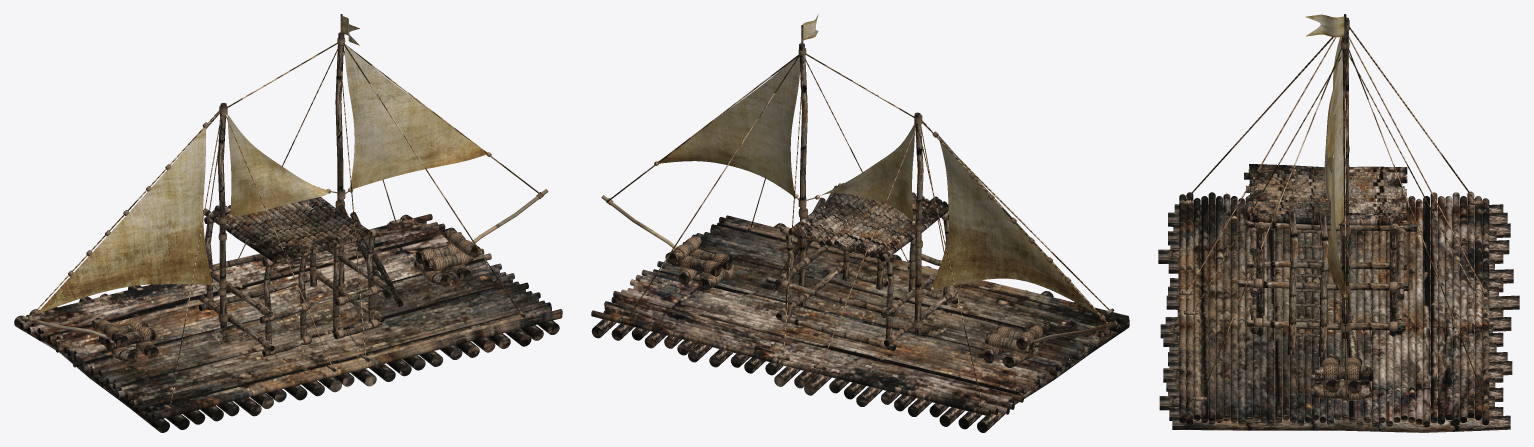
The model's file is raft.glb.
The picture shows the model from 3 angles, left to right: view 1: azimuth 30°, elevation 25°; view 2: azimuth 150°, elevation 25°; view 3: azimuth 270°, elevation 25°; orthographic projection. The views are drawn at different scales.
Parts seen in each view (by area): view 1: Object_3, Object_10, Object_2, Object_4, Object_6, Object_5, Object_7, Object_9, Object_8; view 2: Object_3, Object_2, Object_10, Object_4, Object_5, Object_6, Object_7, Object_9, Object_8; view 3: Object_3, Object_2, Object_4, Object_10, Object_5, Object_6, Object_8, Object_7.
Boxes of the visible parts, x1,y1,x2,y2 form: Object_3: (39,14,562,420); Object_10: (38,16,487,313); Object_2: (14,204,525,432); Object_4: (203,32,403,343); Object_6: (26,38,543,410); Object_5: (30,42,539,407); Object_7: (34,270,322,357); Object_9: (21,189,548,346); Object_8: (205,114,439,366); Object_3: (591,25,1129,406); Object_2: (591,197,1129,432); Object_10: (657,14,1100,315); Object_4: (766,43,949,343); Object_5: (606,53,1109,405); Object_6: (606,48,1112,352); Object_7: (779,273,1104,405); Object_9: (601,195,1117,352); Object_8: (820,127,944,365); Object_3: (1159,14,1512,432); Object_2: (1158,191,1519,427); Object_4: (1237,17,1416,354); Object_10: (1305,14,1347,294); Object_5: (1184,27,1485,401); Object_6: (1182,20,1488,401); Object_8: (1184,36,1484,296); Object_7: (1340,200,1487,332).
Bounding box in the file's own units: 9.32 × 5.12 × 4.88.
6 materials, 6 textured.
